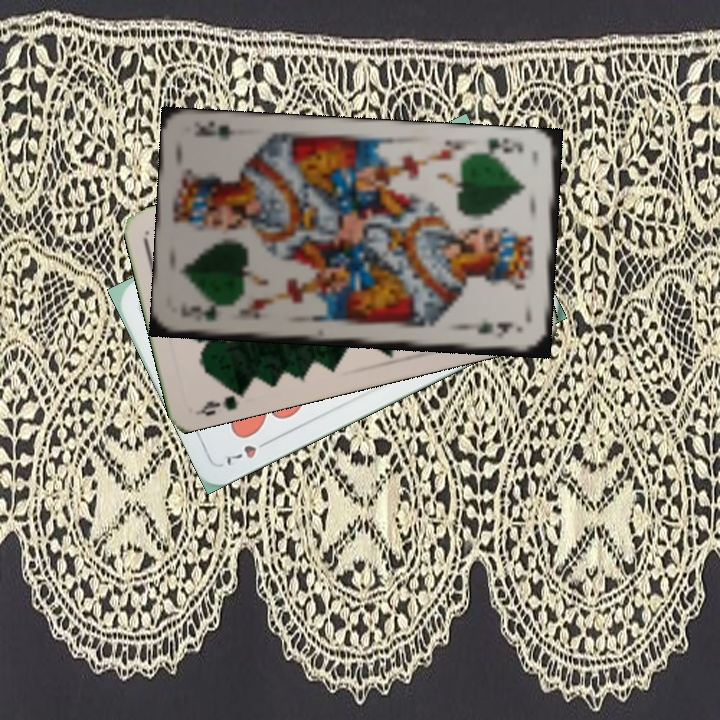G9: (193, 385, 249, 419)
GK: (475, 133, 525, 160), (185, 302, 220, 323)
H7: (222, 434, 274, 468)
